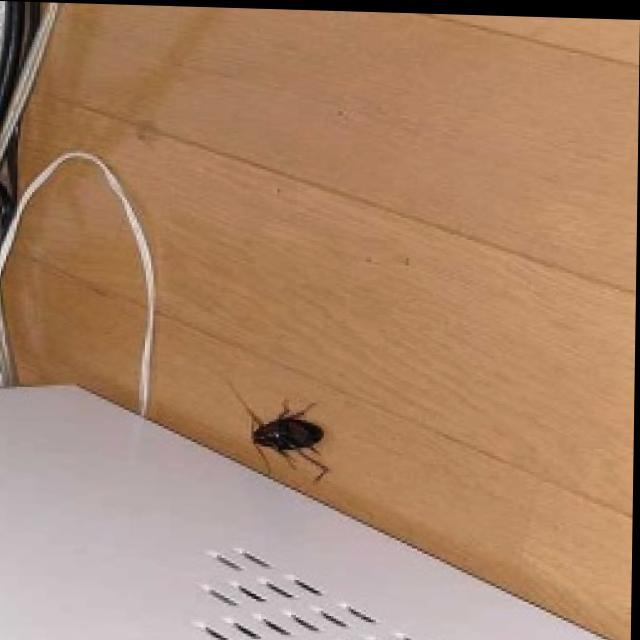cockroach: (246, 398, 345, 463)
